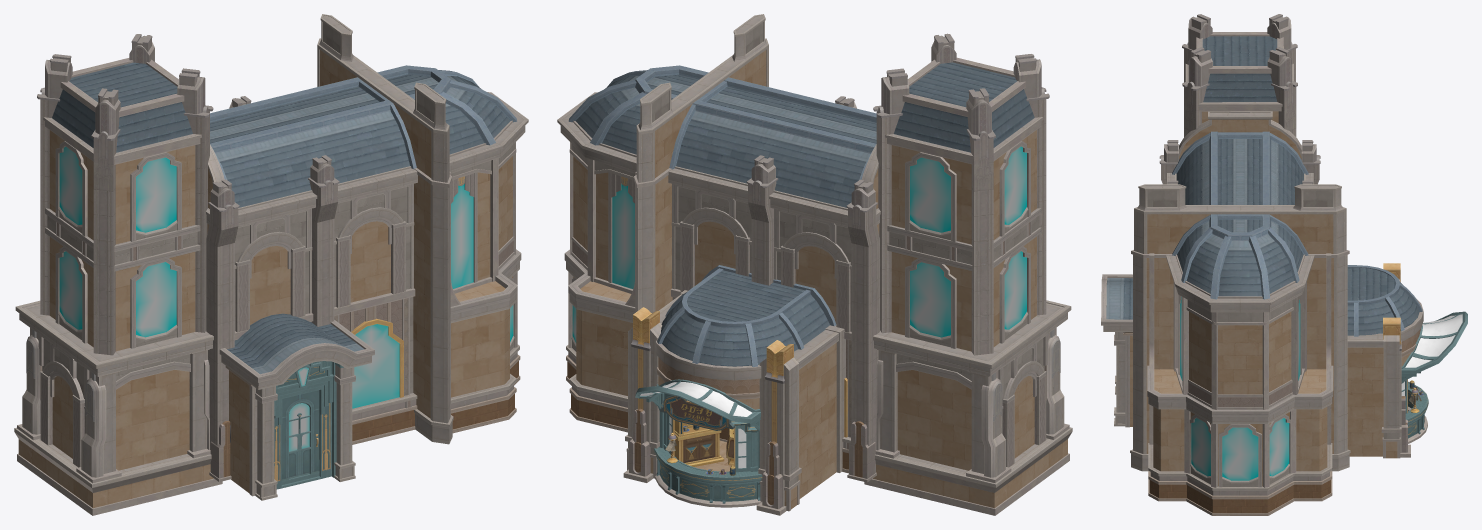
Rendered from Homeworld_Exterior_Fd_Build_ZhuchengJz_06_Lod0.fbx.
The picture shows the model from 3 angles, left to right: view 1: azimuth 30°, elevation 25°; view 2: azimuth 150°, elevation 25°; view 3: azimuth 270°, elevation 25°; orthographic projection. The views are drawn at different scales.
Visible parts, largest first — view 1: Homeworld_Exterior_Fd_Build_ZhuchengJz_06_Lod0; view 2: Homeworld_Exterior_Fd_Build_ZhuchengJz_06_Lod0; view 3: Homeworld_Exterior_Fd_Build_ZhuchengJz_06_Lod0.
Boxes of the visible parts, bbox=[...] form: Homeworld_Exterior_Fd_Build_ZhuchengJz_06_Lod0: bbox=[14, 14, 528, 515]; Homeworld_Exterior_Fd_Build_ZhuchengJz_06_Lod0: bbox=[557, 14, 1072, 515]; Homeworld_Exterior_Fd_Build_ZhuchengJz_06_Lod0: bbox=[1101, 14, 1467, 515].
Size of what is drawn, in the model's own units: 19.06 by 16.14 by 15.91.
